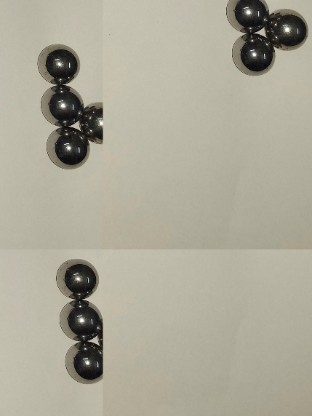ironball: (225, 31, 275, 85), (49, 253, 103, 295), (41, 128, 94, 170), (34, 81, 80, 125), (56, 300, 105, 341), (60, 338, 102, 383), (35, 43, 85, 80), (269, 8, 310, 53), (227, 0, 269, 36), (81, 99, 103, 145)
